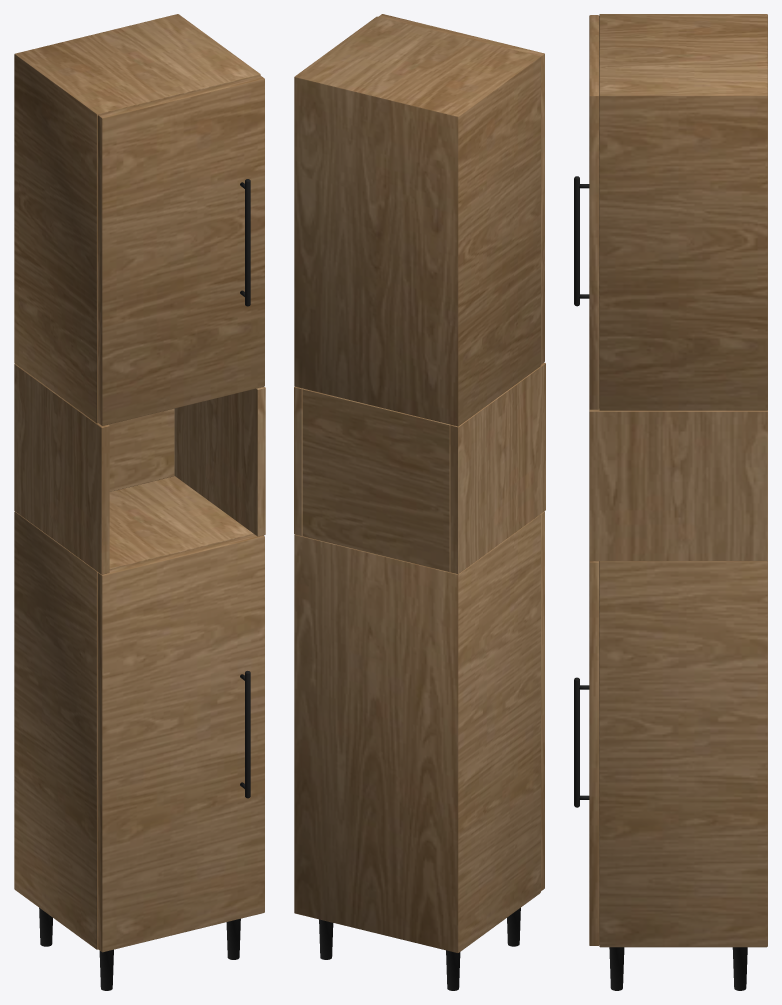
File: columna_bano_suelo_roble.glb
3 views of the same model, side by side, from view 1: azimuth 30°, elevation 25°; view 2: azimuth 150°, elevation 25°; view 3: azimuth 270°, elevation 25° (orthographic).
Parts seen in each view (by area): view 1: columna_bano_suelo_roble; view 2: columna_bano_suelo_roble; view 3: columna_bano_suelo_roble.
Boxes of the visible parts, x1=… form: columna_bano_suelo_roble: x1=14, y1=14, x2=265, y2=990; columna_bano_suelo_roble: x1=294, y1=14, x2=545, y2=990; columna_bano_suelo_roble: x1=574, y1=14, x2=767, y2=990.
Bounding box in the file's own units: 0.35 × 1.8 × 0.3505.
Materials: 2 (1 with a texture image).
